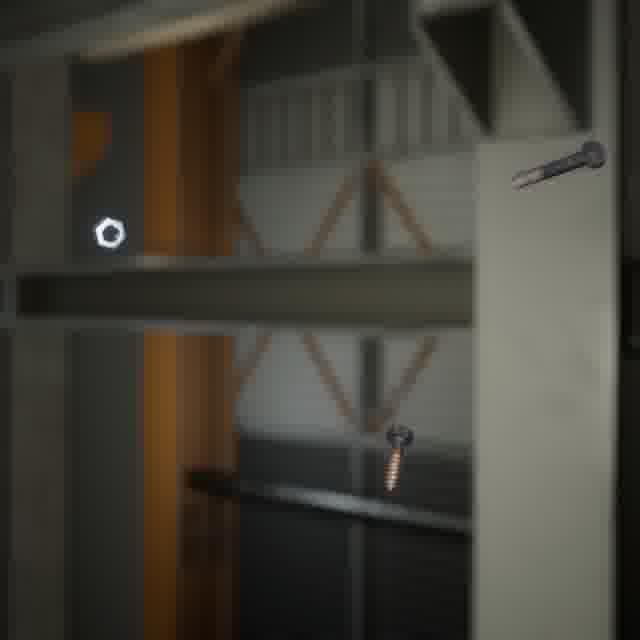bolt: (508, 136, 609, 192), (379, 421, 418, 495)
nut: (87, 211, 130, 254)
